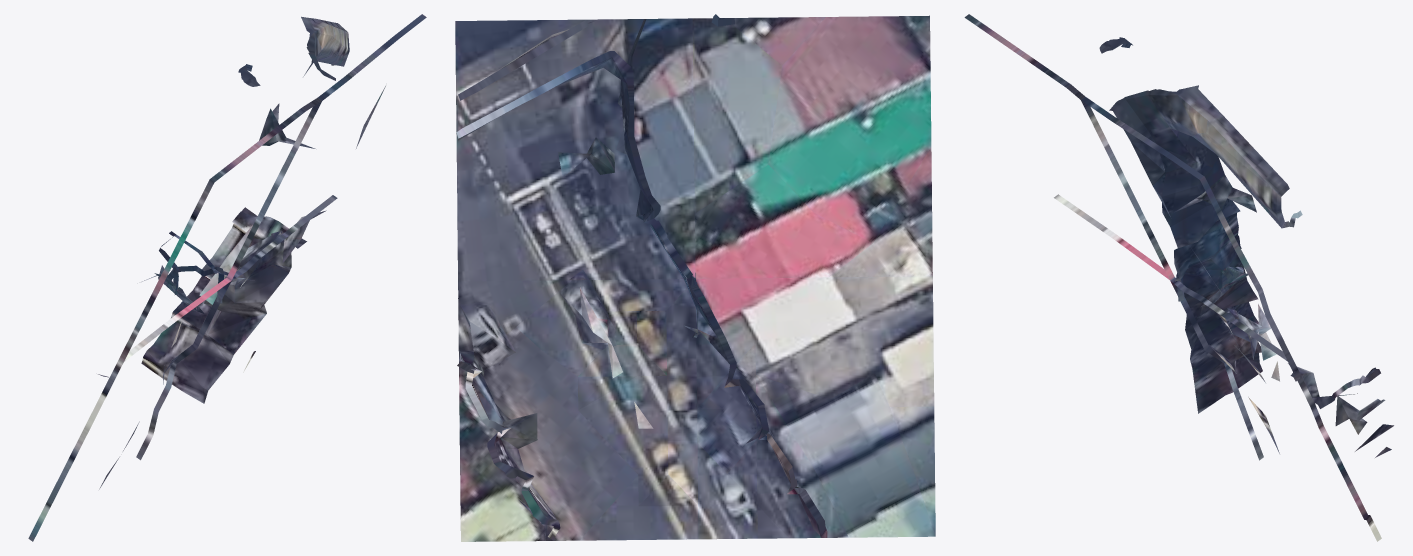
3 renders of one model, left to right at view 1: azimuth 30°, elevation 25°; view 2: azimuth 150°, elevation 25°; view 3: azimuth 270°, elevation 25°, orthographic. The views are drawn at different scales.
Size of the model in its own units: 38.19 by 37.56 by 33.35.
Materials: 1 (1 with a texture image).
